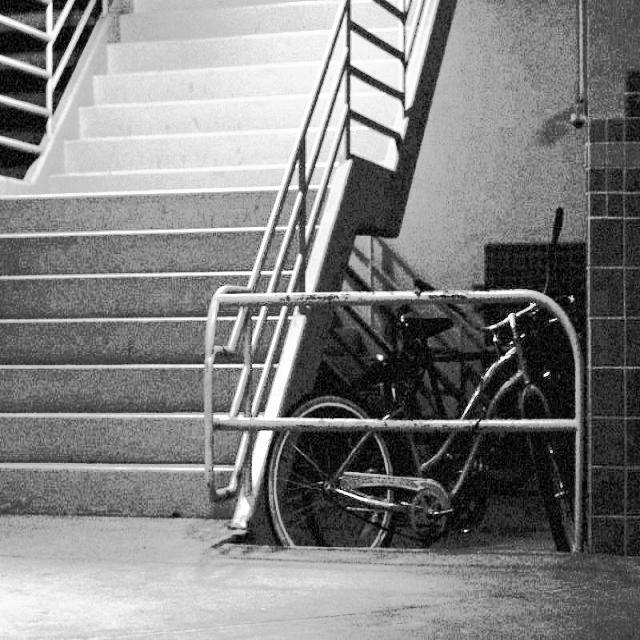Bicycle: (261, 271, 558, 571)
